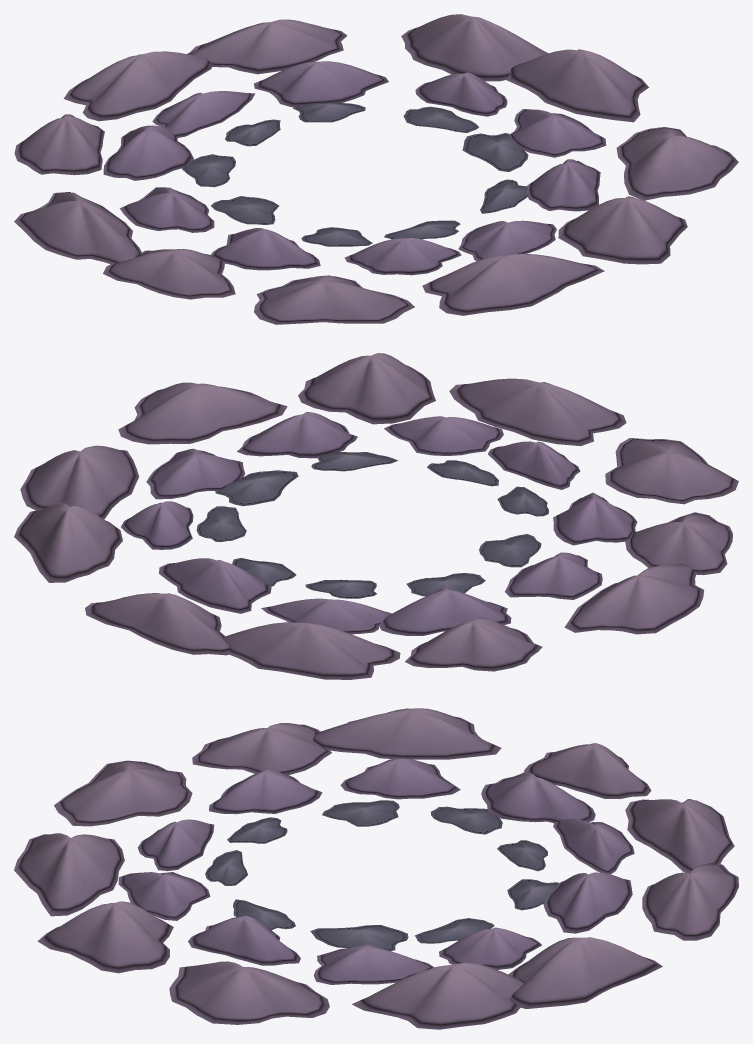
Rendered from distant_terrain_eco.glb.
The picture shows the model from 3 angles, top to bottom: view 1: azimuth 30°, elevation 25°; view 2: azimuth 150°, elevation 25°; view 3: azimuth 270°, elevation 25°; orthographic projection. The views are drawn at different scales.
Parts seen in each view (by area): view 1: Far_ridges_01, Far_ridges_04, Far_ridges_03, Far_ridges_07, Far_ridges_05, Far_ridges_02, Far_ridges_11, Far_ridges_09, Far_ridges_06, Far_ridges_10, Far_ridges_08, Middle_hills_05 (+18 smaller); view 2: Far_ridges_01, Far_ridges_07, Far_ridges_03, Far_ridges_02, Far_ridges_09, Far_ridges_11, Far_ridges_05, Far_ridges_04, Far_ridges_06, Far_ridges_08, Far_ridges_10, Middle_hills_05 (+18 smaller); view 3: Far_ridges_04, Far_ridges_03, Far_ridges_05, Far_ridges_09, Far_ridges_01, Far_ridges_02, Far_ridges_11, Far_ridges_07, Far_ridges_06, Far_ridges_10, Far_ridges_08, Middle_hills_07 (+18 smaller).
Part boxes in pixels (box(x1,y1,x2,y2)): Far_ridges_01: box(422, 253, 604, 315); Far_ridges_04: box(506, 49, 648, 122); Far_ridges_03: box(616, 127, 738, 200); Far_ridges_07: box(63, 51, 212, 121); Far_ridges_05: box(401, 14, 548, 81); Far_ridges_02: box(558, 196, 687, 264); Far_ridges_11: box(254, 275, 414, 324); Far_ridges_09: box(14, 192, 141, 264); Far_ridges_06: box(187, 19, 347, 74); Far_ridges_10: box(103, 249, 235, 299); Far_ridges_08: box(14, 114, 104, 175); Middle_hills_05: box(253, 61, 388, 107); Far_ridges_01: box(449, 378, 626, 446); Far_ridges_07: box(221, 622, 400, 679); Far_ridges_03: box(118, 382, 287, 444); Far_ridges_02: box(298, 353, 435, 424); Far_ridges_09: box(564, 564, 704, 634); Far_ridges_11: box(605, 438, 738, 504); Far_ridges_05: box(14, 503, 122, 582); Far_ridges_04: box(20, 445, 138, 519); Far_ridges_06: box(85, 593, 229, 655); Far_ridges_08: box(405, 618, 542, 671); Far_ridges_10: box(625, 512, 732, 575); Middle_hills_05: box(159, 558, 271, 613); Far_ridges_04: box(352, 962, 524, 1029); Far_ridges_03: box(169, 961, 329, 1024); Far_ridges_05: box(508, 937, 662, 1008); Far_ridges_09: box(313, 708, 501, 759); Far_ridges_01: box(14, 833, 124, 916); Far_ridges_02: box(37, 901, 173, 973); Far_ridges_11: box(54, 760, 192, 826); Far_ridges_07: box(625, 799, 734, 872); Far_ridges_06: box(642, 863, 738, 940); Far_ridges_10: box(192, 723, 331, 774); Far_ridges_08: box(524, 743, 651, 798); Middle_hills_07: box(481, 772, 595, 823).
Size of the model in its own units: 469 by 27.92 by 457.
